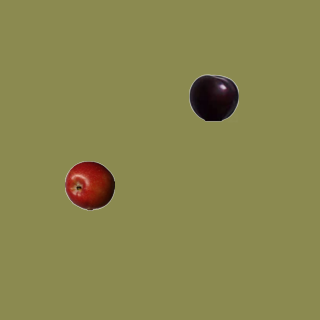Apple Braeburn: (64, 160, 114, 210)
Cherry Wax Black: (188, 72, 238, 122)
